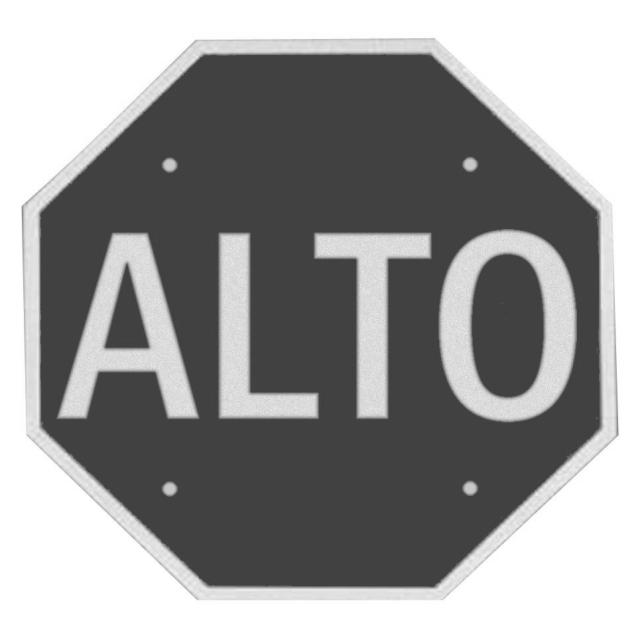Stop-sign: (0, 27, 635, 613)
